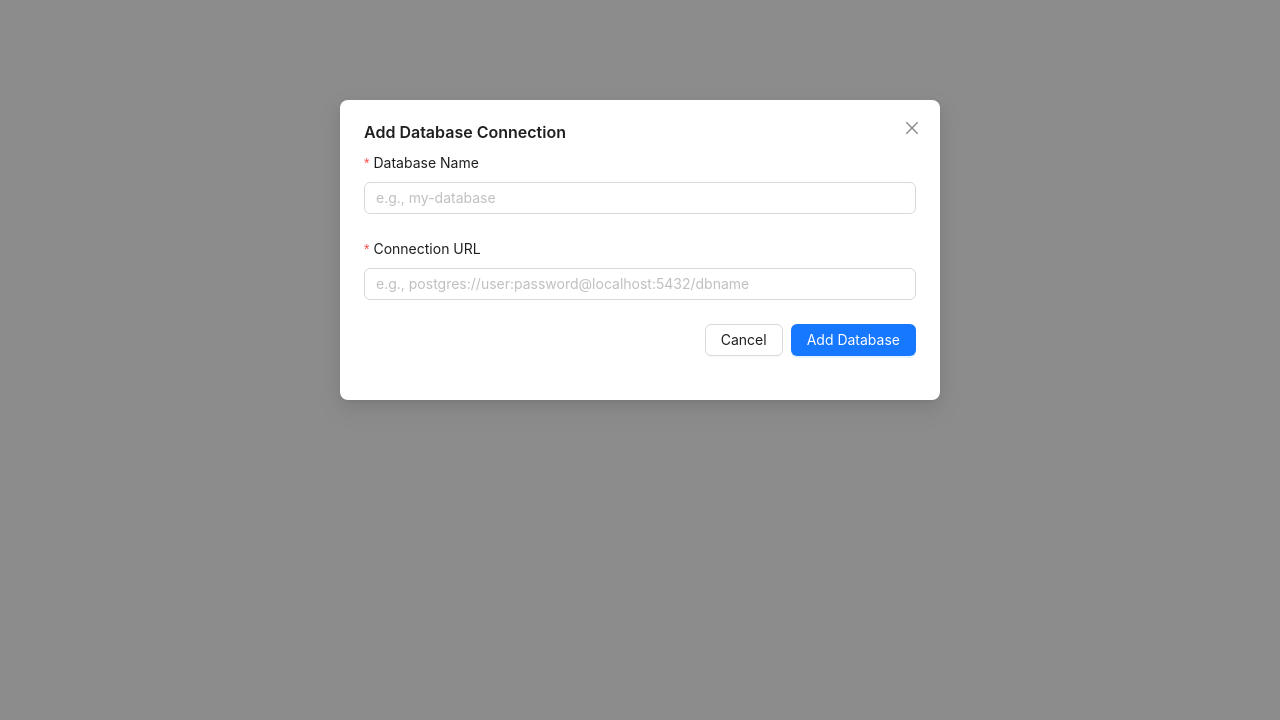
Test: AddDatabaseForm › validates database name format
Type "invalid name with spaces" into the field labelled "Database Name" at (640, 198), box [364, 182, 916, 214]
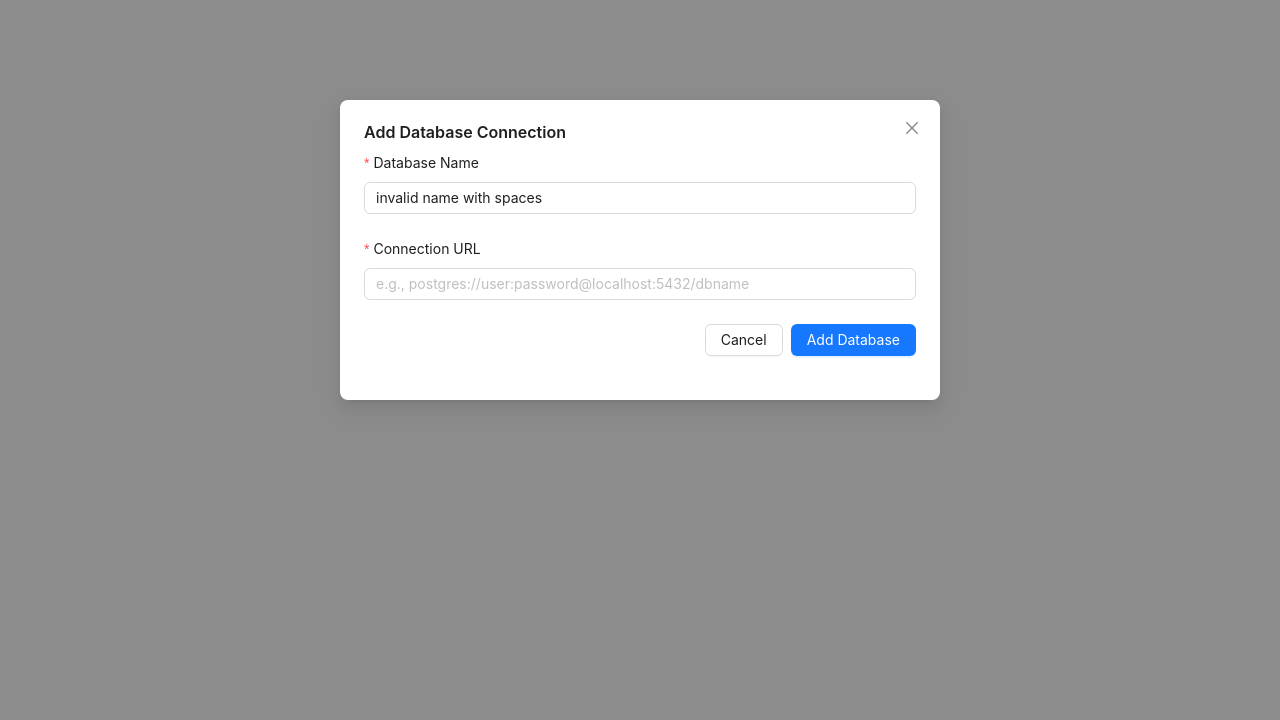
Type "postgres://user:pass@localhost:5432/db" into the field labelled "Connection URL" at (640, 284), box [364, 268, 916, 300]
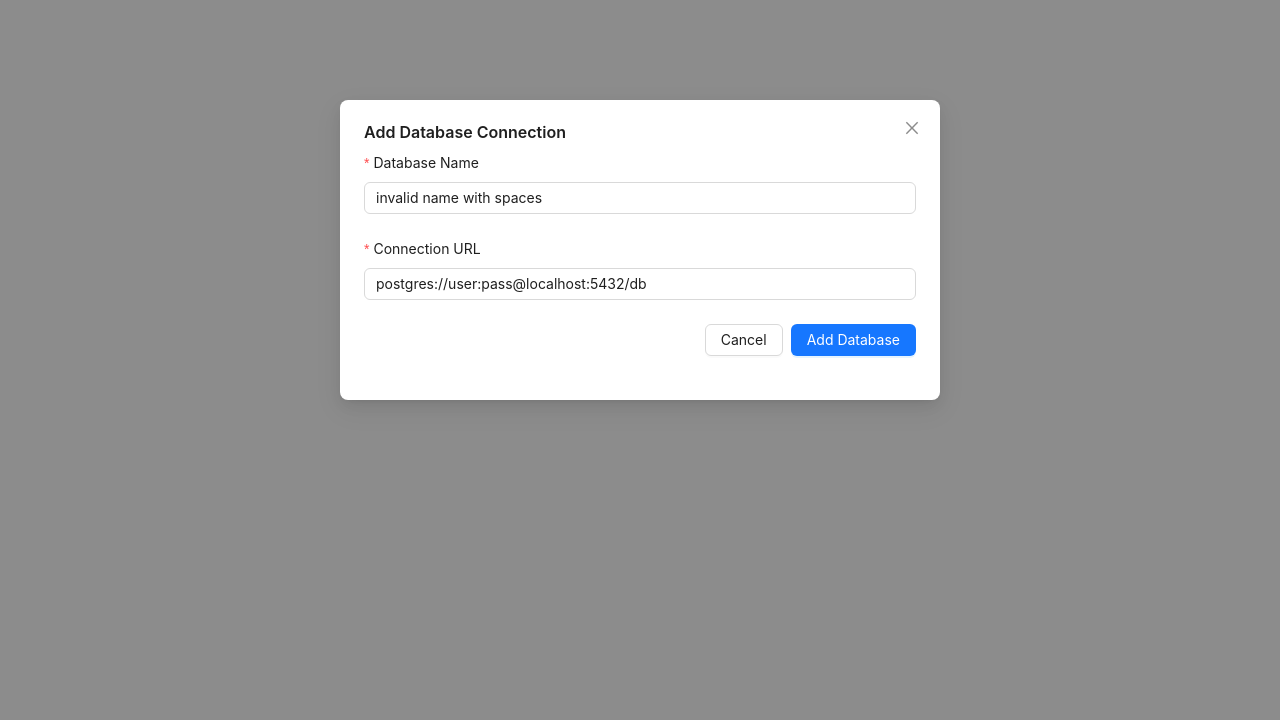
Click the button "Add Database" at (853, 340), box [791, 324, 916, 356]
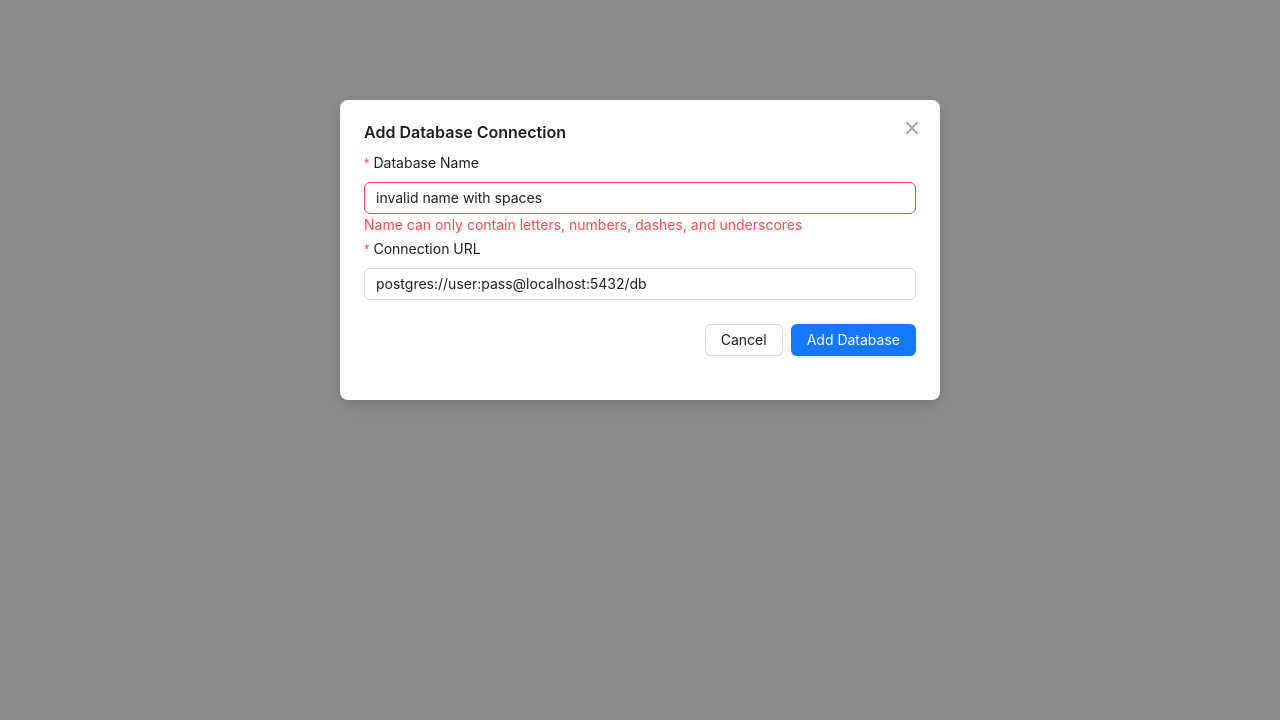
expect the text "Name can only contain" is shown: met, box [364, 216, 802, 233]
